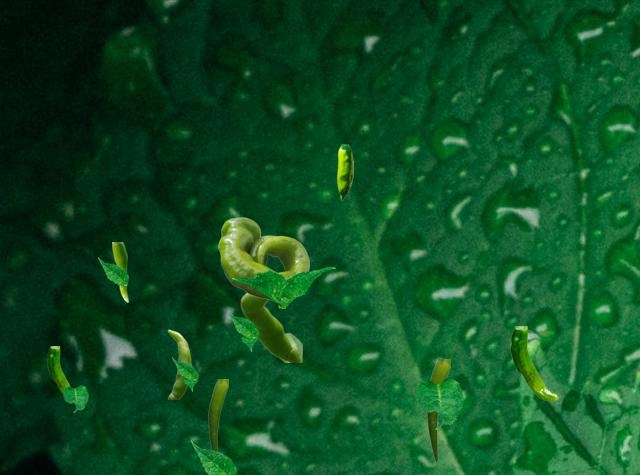green_chili: (218, 217, 308, 300), (240, 293, 301, 361), (510, 326, 557, 400), (426, 359, 449, 461), (167, 329, 191, 398), (208, 379, 227, 450), (47, 346, 70, 394), (112, 242, 127, 301), (337, 144, 352, 199)
